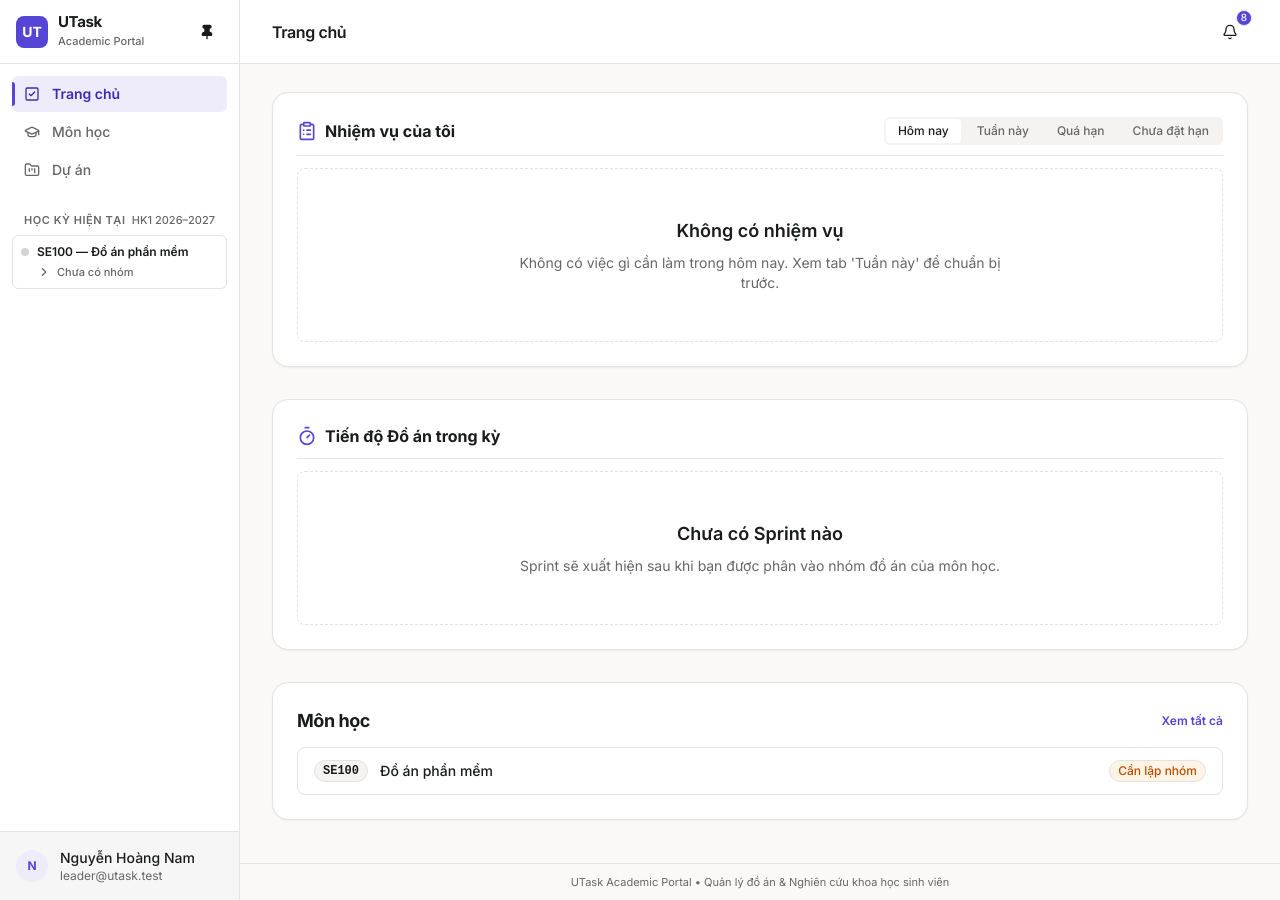
Test: My Work with real Work and Classroom › lists my tasks gathered from my projects, with a missing due date shown plainly
This screenshot has width=1280, height=900.
Click the tab "Chưa đặt hạn".
click(1171, 131)  # box [1121,119,1221,143]
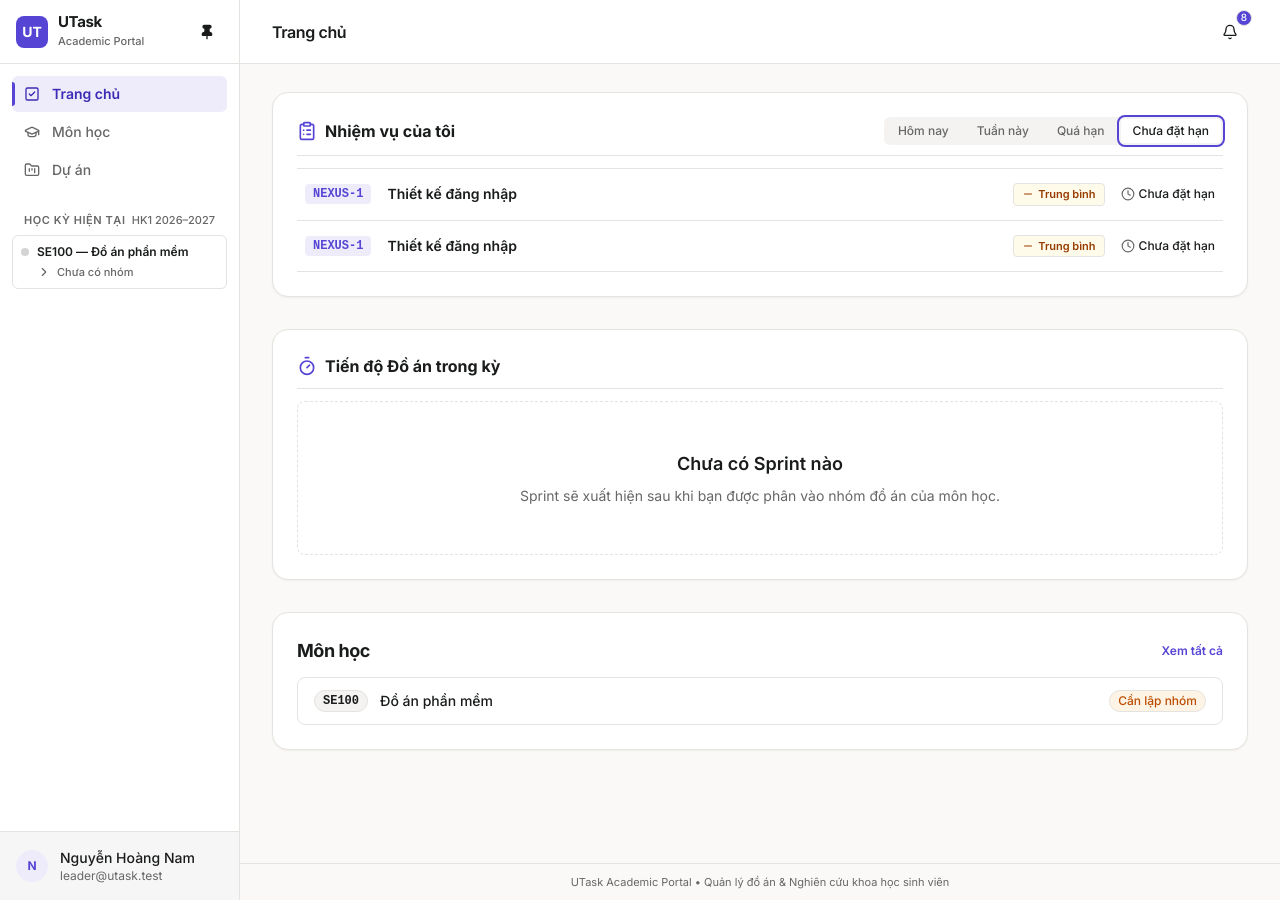
Check: the 1st link "Thiết kế đăng nhập" is shown, box [387,185,517,202]
